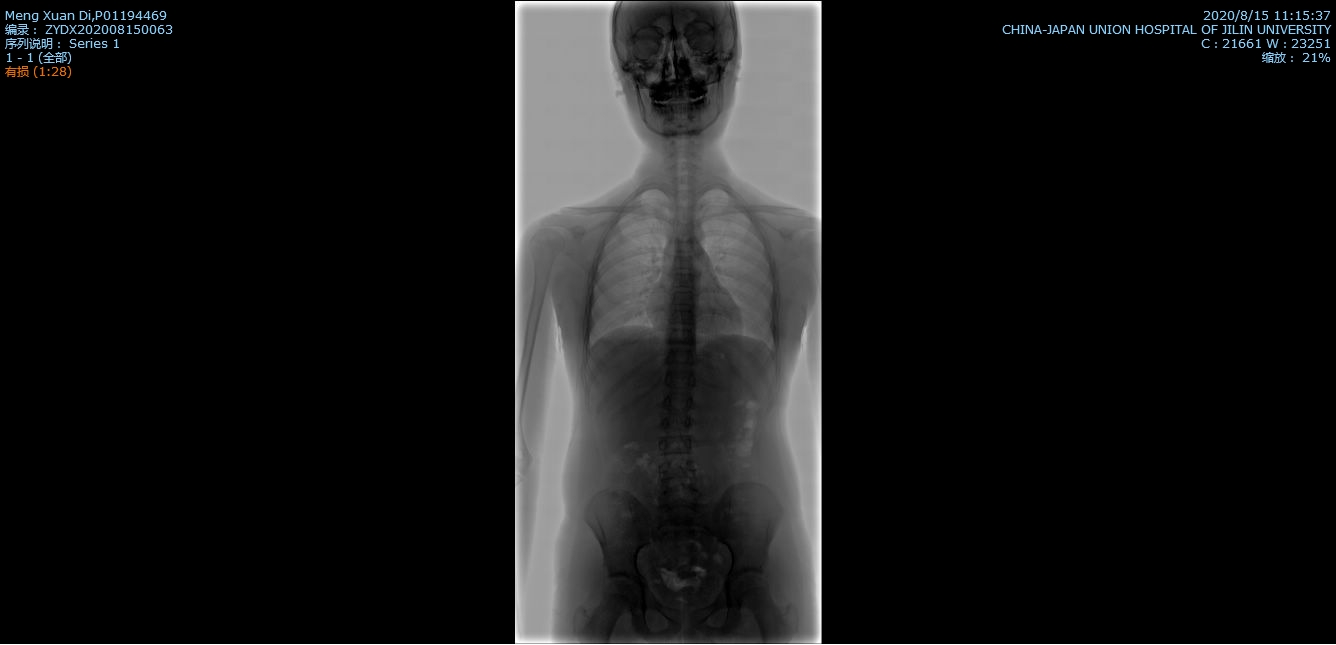Bone: (661, 487, 697, 508), (660, 463, 697, 479), (660, 437, 692, 455), (666, 370, 695, 389), (666, 348, 695, 366), (660, 415, 694, 430), (669, 328, 696, 343), (669, 309, 696, 324), (666, 394, 692, 409), (670, 291, 695, 305), (673, 273, 694, 287), (673, 254, 692, 268), (675, 239, 693, 252)
